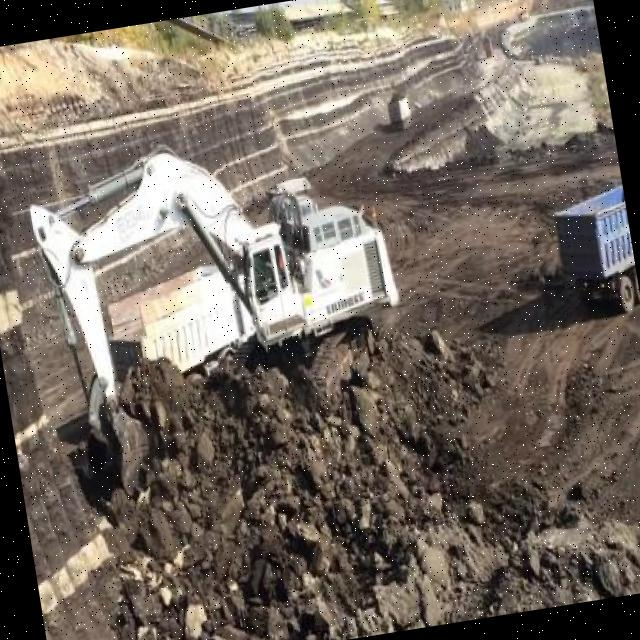Dump Truck: (98, 254, 245, 386), (540, 167, 640, 329), (383, 87, 414, 130)
Excavator: (18, 112, 426, 480)
